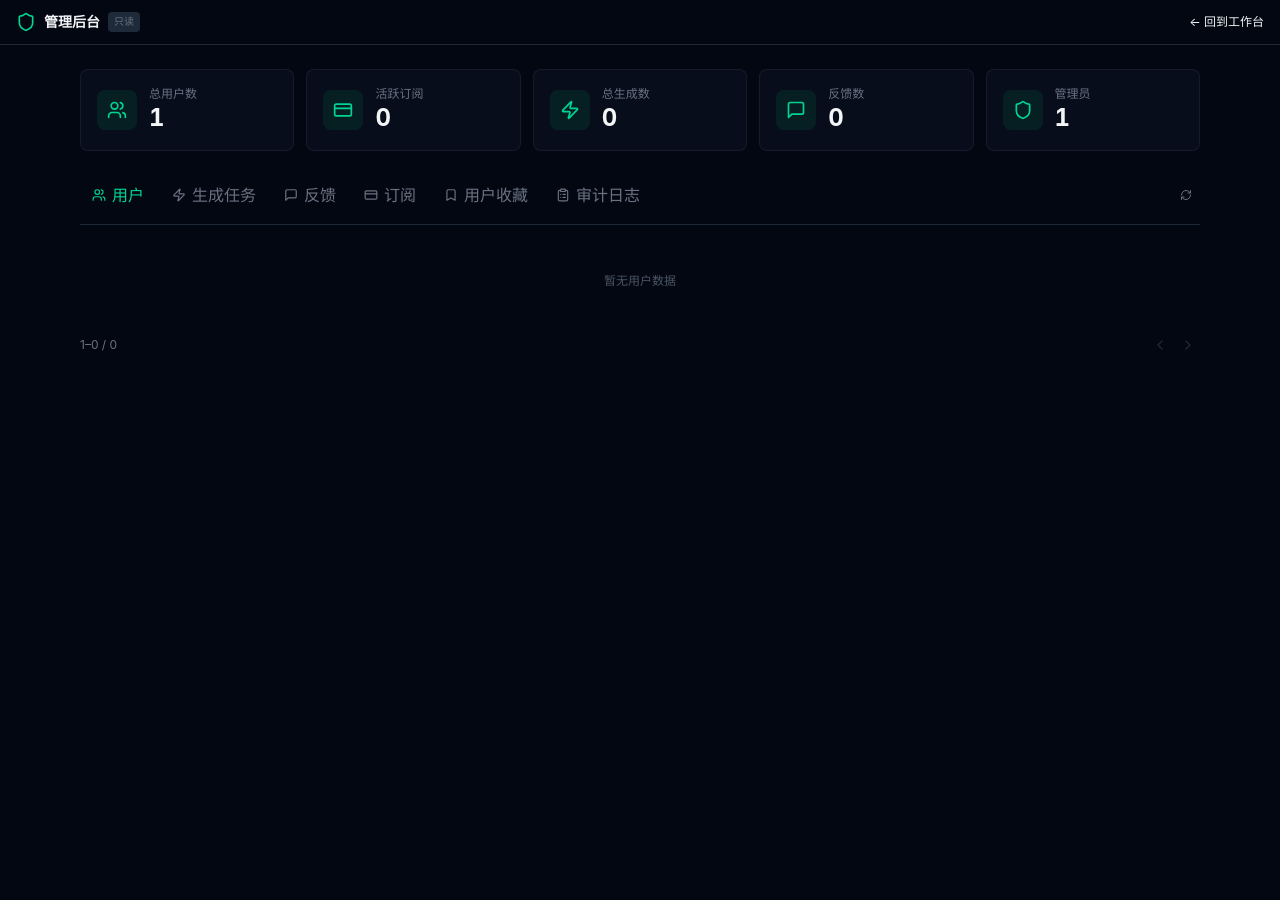
Scenario: 管理员收藏检索 UI › 列表与详情显示中文平台与中文标签，不展示英文 key
The image size is (1280, 900).
Step 1. Click the button "用户收藏" → (486, 195), box [432, 175, 540, 216]
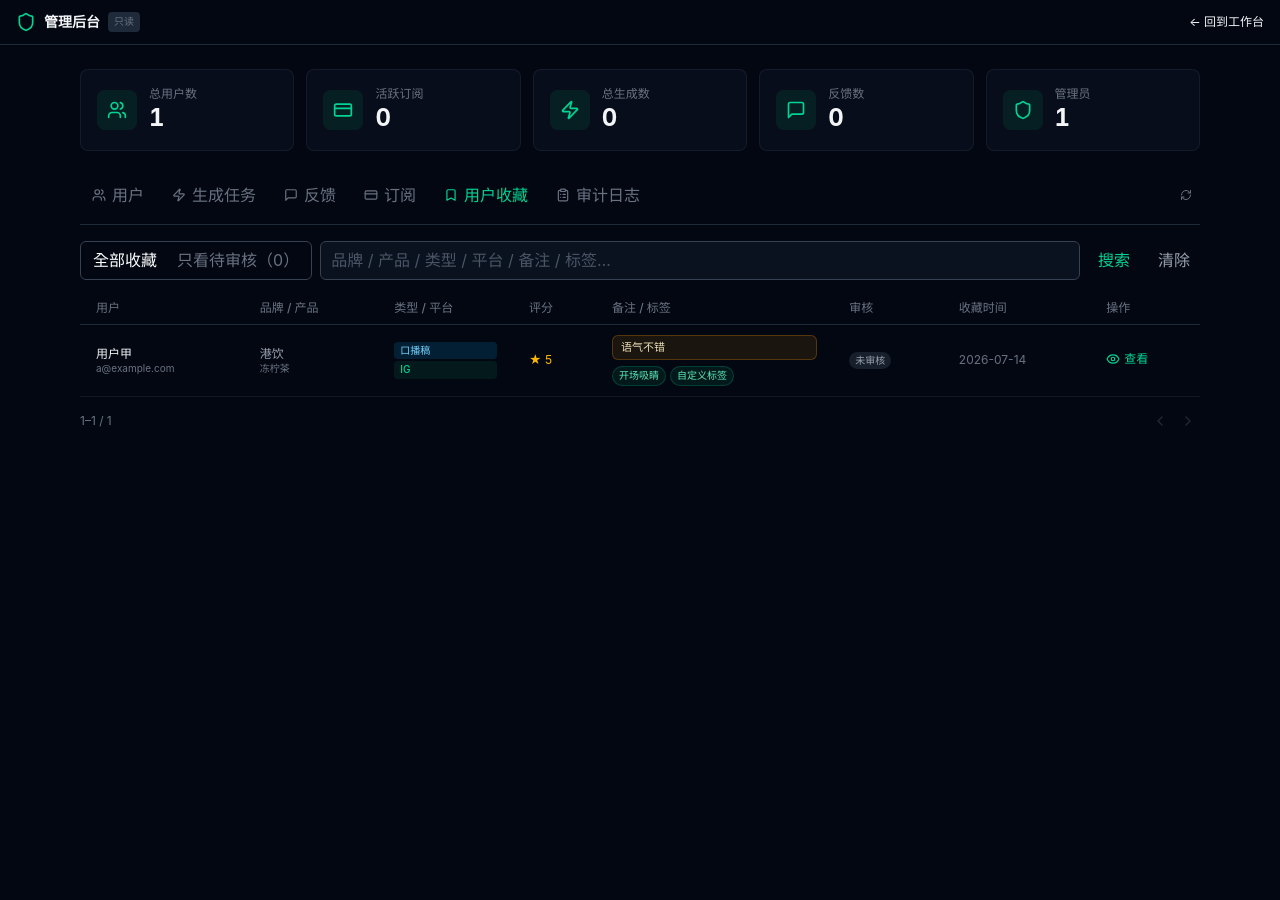
Now the text "口播稿" is shown, box [394, 342, 497, 359]
Now the text "IG" is shown, box [394, 361, 497, 379]
Now the text "开场吸睛" is shown, box [612, 366, 666, 386]
Step 2. Click the button with aria-label "查看收藏详情" → (1127, 359), box [1106, 351, 1148, 367]
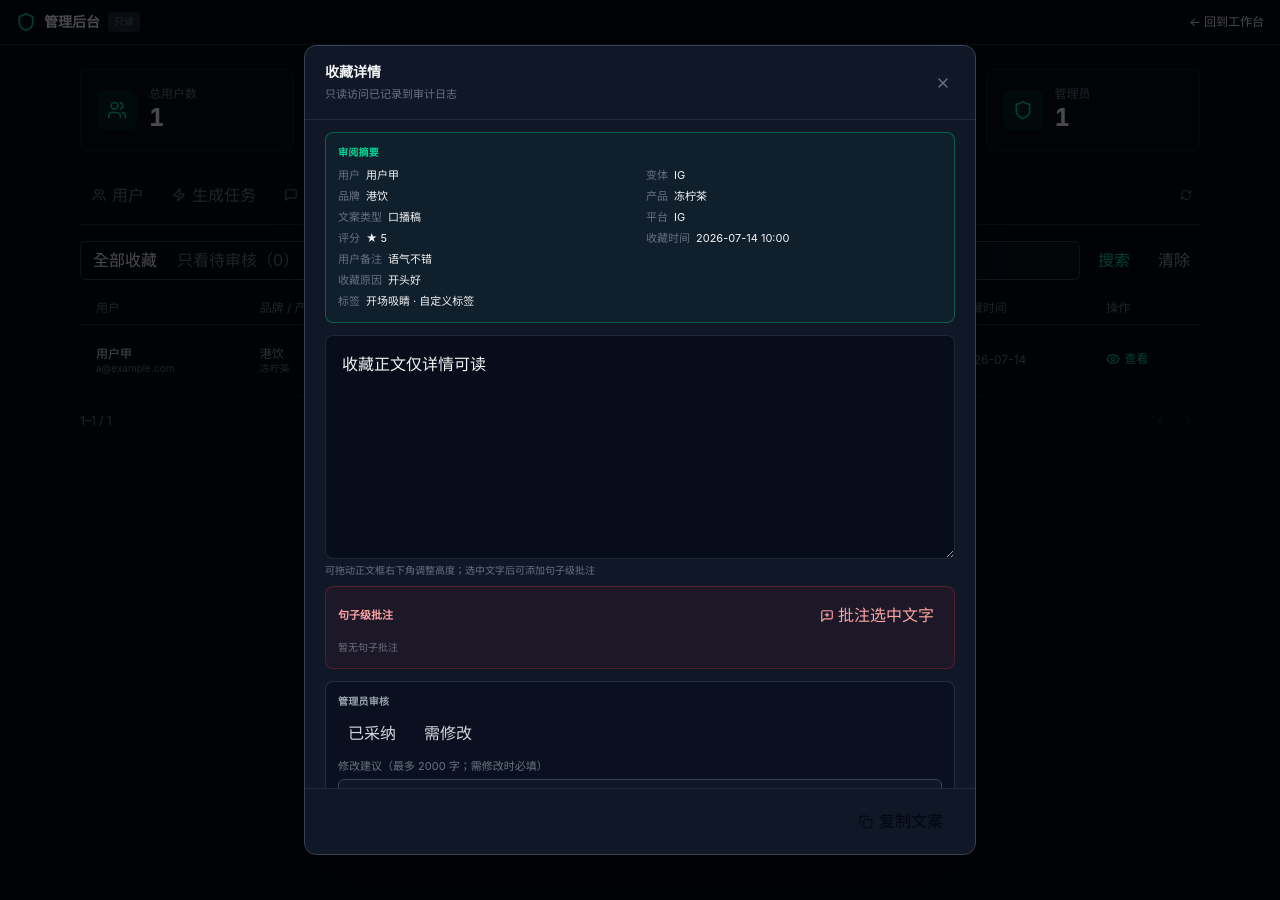
Now the element with test id "favorite-review-summary" is shown, box [325, 132, 955, 323]
Now the element with test id "favorite-review-summary" shows "IG", box [674, 168, 685, 182]
Now the element with test id "favorite-review-summary" shows "开场吸睛", box [366, 294, 474, 308]
